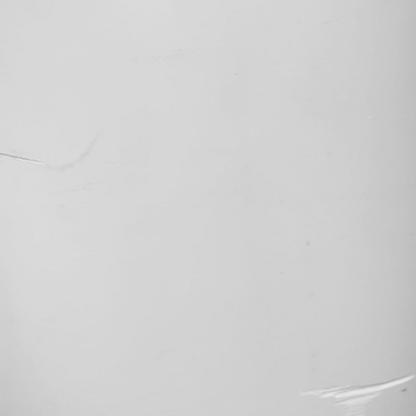sunshang: (301, 374, 415, 405), (1, 151, 43, 165)
